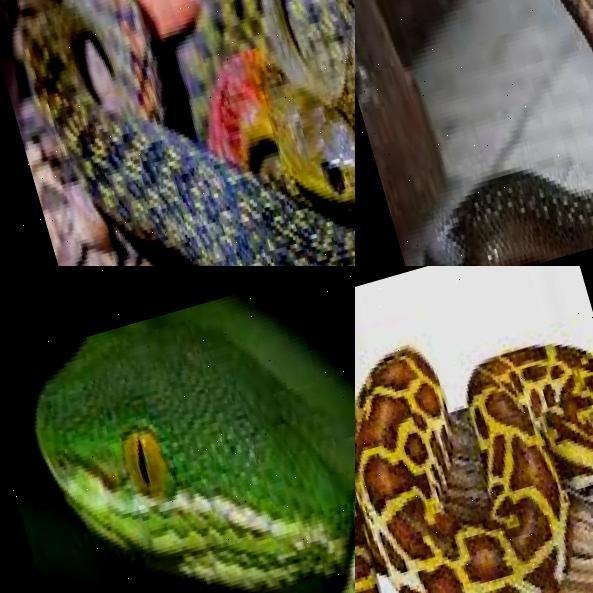1: (355, 0, 593, 266)
2: (0, 0, 355, 266)
4: (0, 266, 355, 593)
snake: (355, 266, 593, 593)
